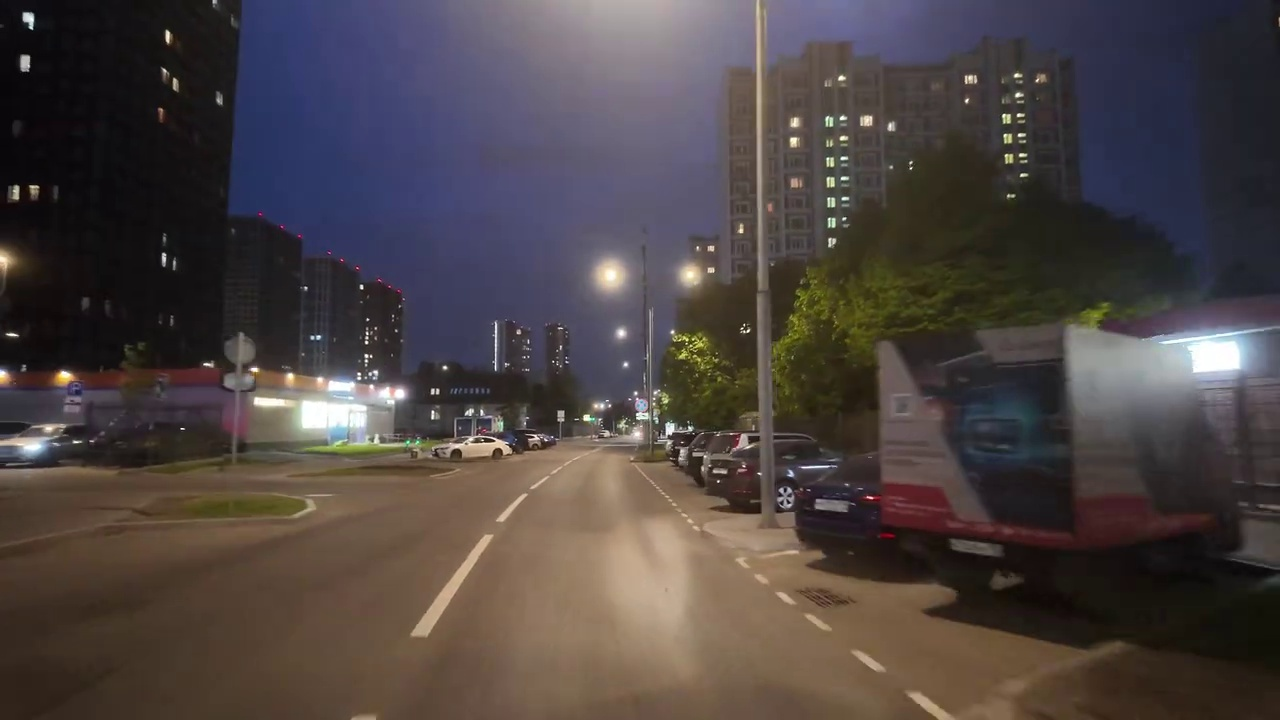acesa: (593, 258, 628, 293), (676, 260, 709, 291), (611, 324, 631, 344), (0, 248, 13, 274)
